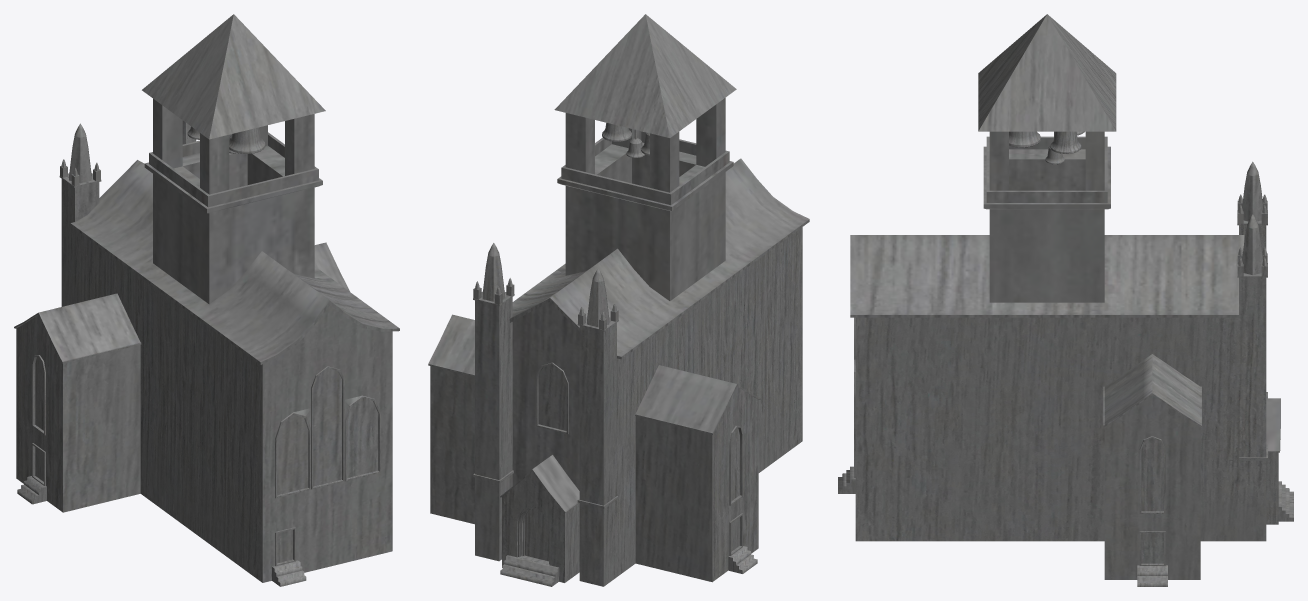
File: CathedralUV.obj
The picture shows the model from 3 angles, left to right: view 1: azimuth 30°, elevation 25°; view 2: azimuth 150°, elevation 25°; view 3: azimuth 270°, elevation 25°; orthographic projection. The views are drawn at different scales.
Parts seen in each view (by area): view 1: pCube7; view 2: pCube7; view 3: pCube7.
Part boxes in pixels (x1,y1,x2,y2): pCube7: (14,14,399,586); pCube7: (428,14,809,586); pCube7: (838,14,1293,586).
Size of the model in its own units: 242 by 356 by 297.
1 material, 1 textured.
